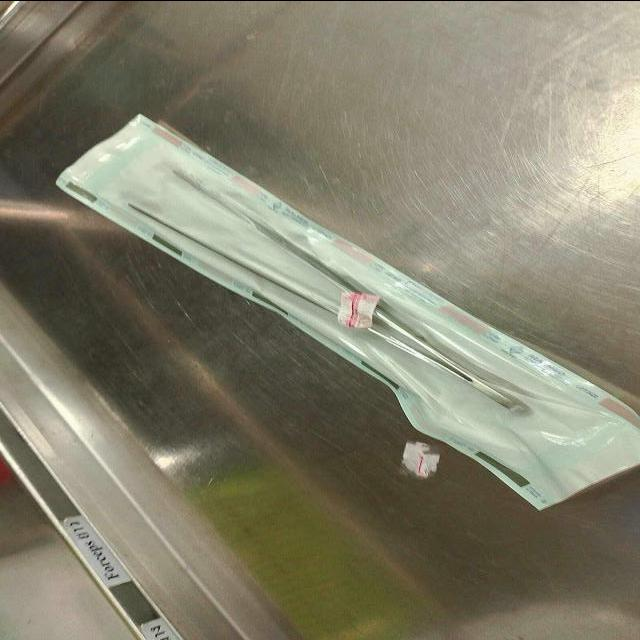General: (54, 111, 637, 513)
Sharps: (336, 289, 523, 413)
